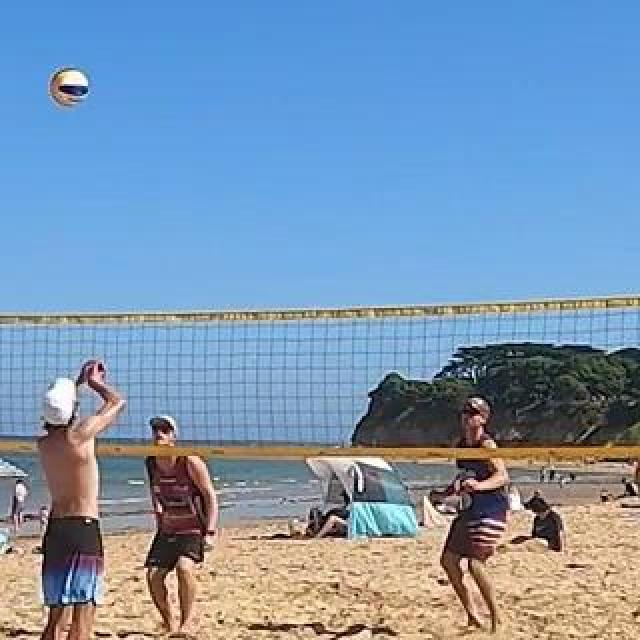volleyball: (50, 69, 88, 107)
